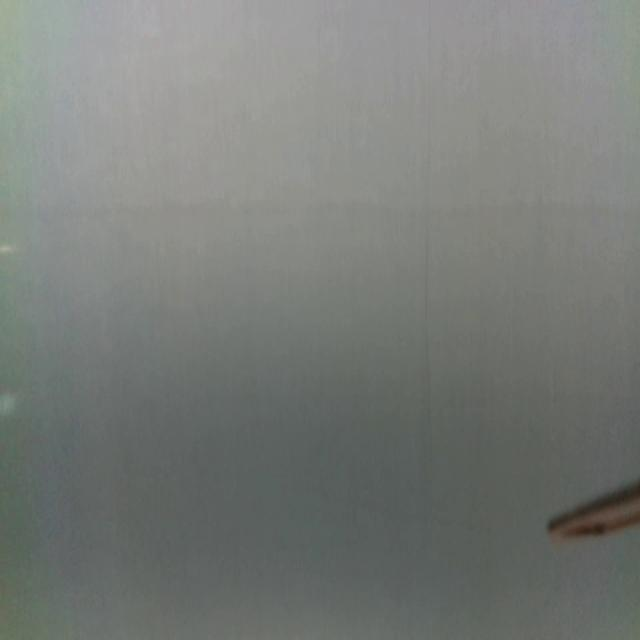color bleeding: (0, 191, 640, 229)
crease: (422, 0, 432, 497)
